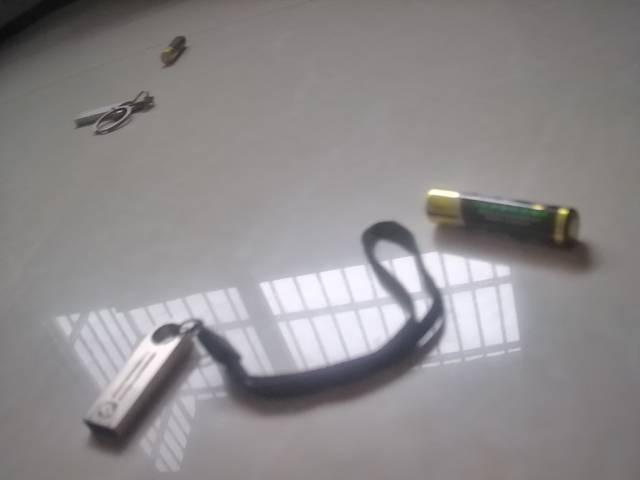U-disk: (78, 299, 350, 452), (74, 87, 159, 139)
battery: (418, 180, 584, 255), (155, 32, 195, 67)
